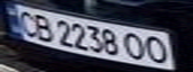2: (51, 17, 75, 48), (66, 19, 87, 52)
3: (84, 24, 106, 55)
8: (100, 27, 121, 57)
B: (30, 11, 57, 43)
C: (12, 7, 42, 38)
O: (142, 34, 175, 65), (121, 30, 151, 62)
